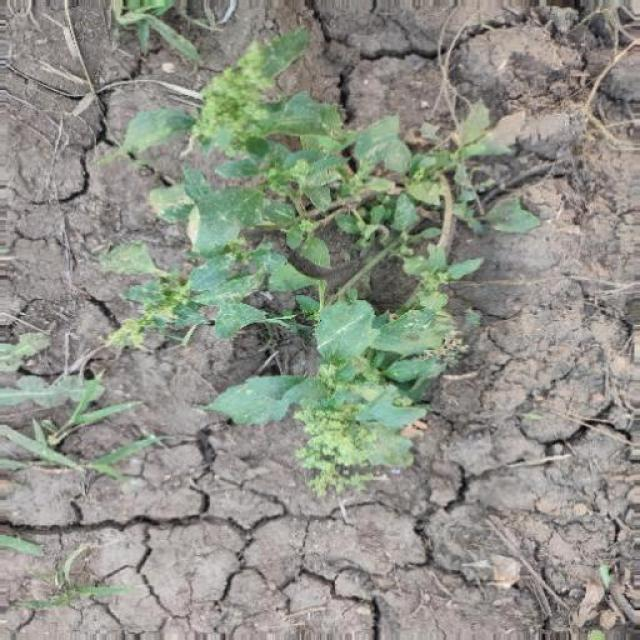weed: (124, 80, 548, 508)
